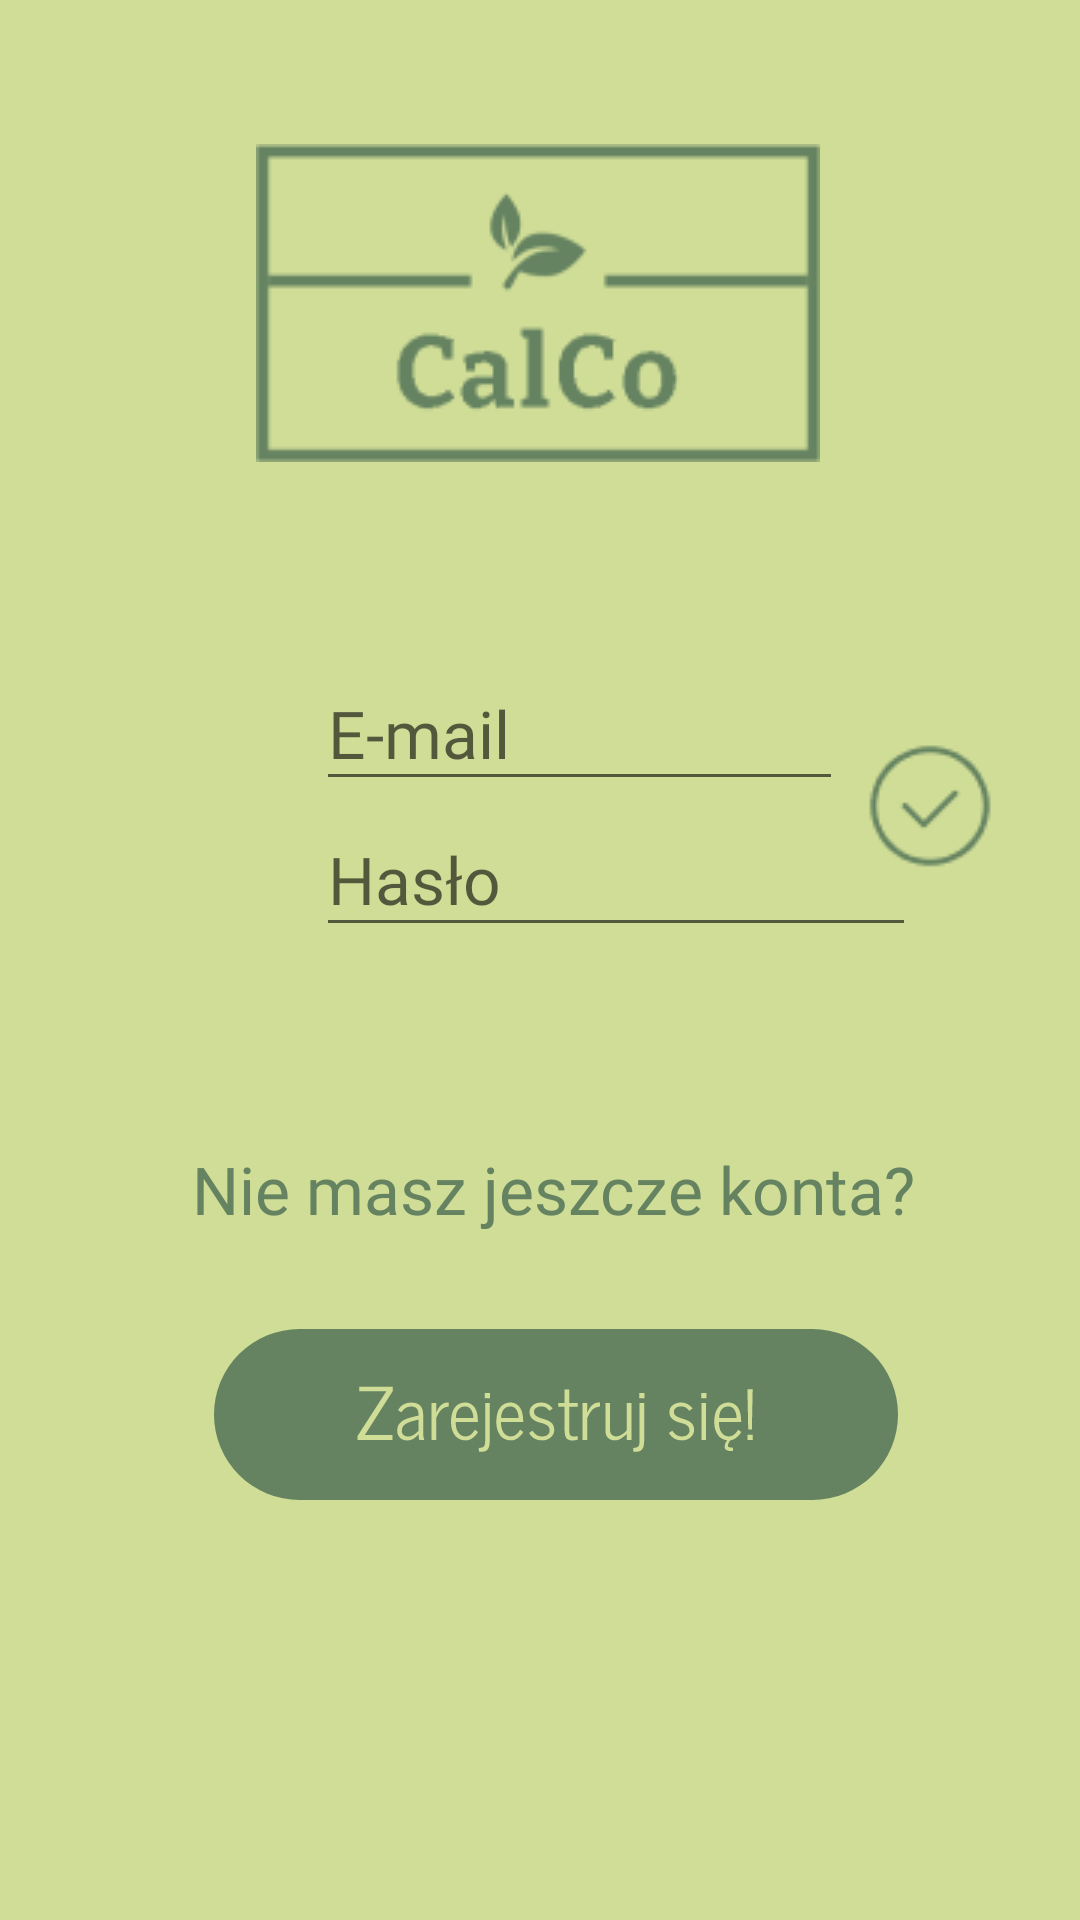

Screen size 1080×1920. Icon name, then its box in pixels as (x1, y1, x2, y2):
line md confirm circle: (869, 745, 991, 867)
